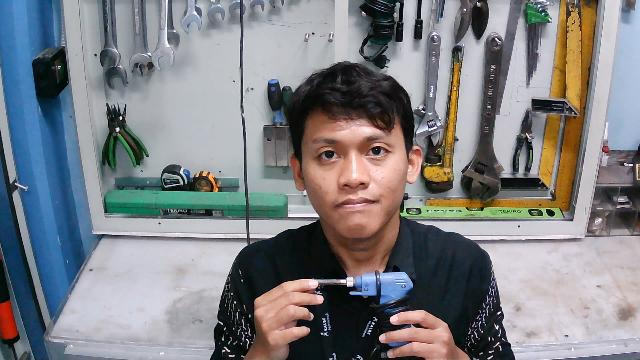solder_electrical: (305, 271, 414, 349)
